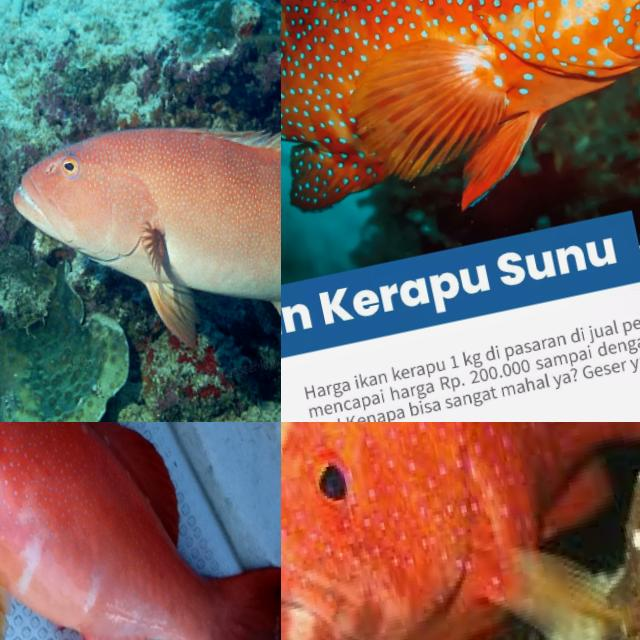Leopard coral grouper: (0, 32, 281, 422), (281, 0, 640, 248), (281, 422, 640, 640), (0, 422, 281, 640), (281, 422, 293, 476)
